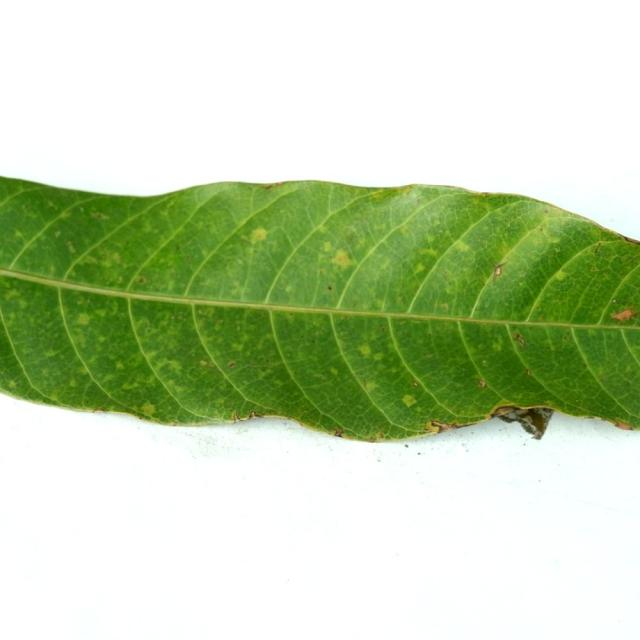Mango: (0, 177, 639, 441)
Powdery_Mildew: (74, 241, 129, 275), (225, 324, 258, 356), (160, 308, 189, 324), (330, 249, 353, 268), (454, 235, 475, 254), (248, 227, 268, 245), (369, 189, 390, 202), (419, 247, 439, 260), (230, 283, 246, 299), (140, 401, 157, 416), (397, 185, 417, 197), (491, 336, 505, 352), (552, 269, 569, 282), (3, 288, 20, 301), (75, 312, 91, 325), (90, 211, 110, 221), (402, 394, 417, 407), (200, 361, 219, 371), (345, 231, 358, 245), (357, 345, 372, 357), (362, 381, 377, 392), (65, 239, 76, 254), (413, 262, 426, 274), (322, 241, 333, 252), (45, 349, 59, 357), (329, 366, 339, 376), (15, 230, 25, 240), (240, 237, 252, 245), (373, 353, 384, 361), (542, 400, 556, 406), (115, 362, 125, 370), (439, 303, 449, 311), (284, 285, 293, 293), (69, 379, 78, 387), (97, 336, 106, 344), (8, 380, 17, 388), (199, 360, 209, 367), (228, 361, 236, 369), (54, 230, 61, 238), (591, 265, 599, 272), (518, 270, 526, 277), (318, 269, 325, 275), (554, 247, 561, 253), (197, 309, 204, 315), (379, 324, 385, 331), (412, 381, 419, 387), (86, 298, 92, 304), (416, 198, 422, 204), (362, 383, 368, 389), (288, 312, 295, 317), (327, 285, 332, 291), (543, 208, 548, 213)
